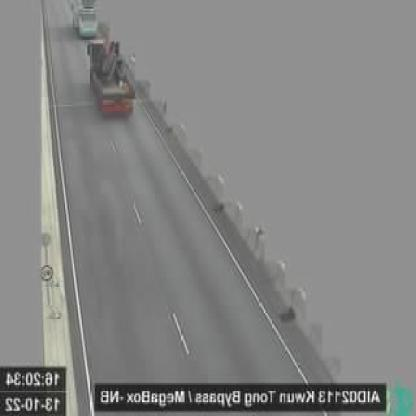Truck: (87, 37, 136, 119)
